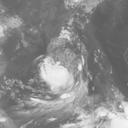cyclone: (37, 58, 75, 95)
